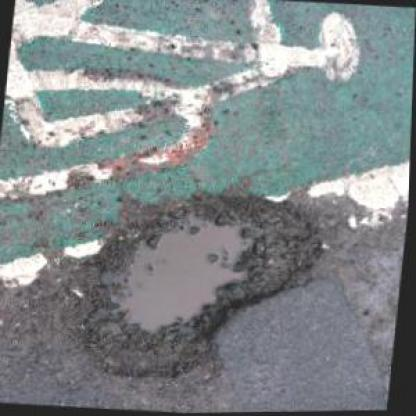pothole: (64, 179, 333, 391)
